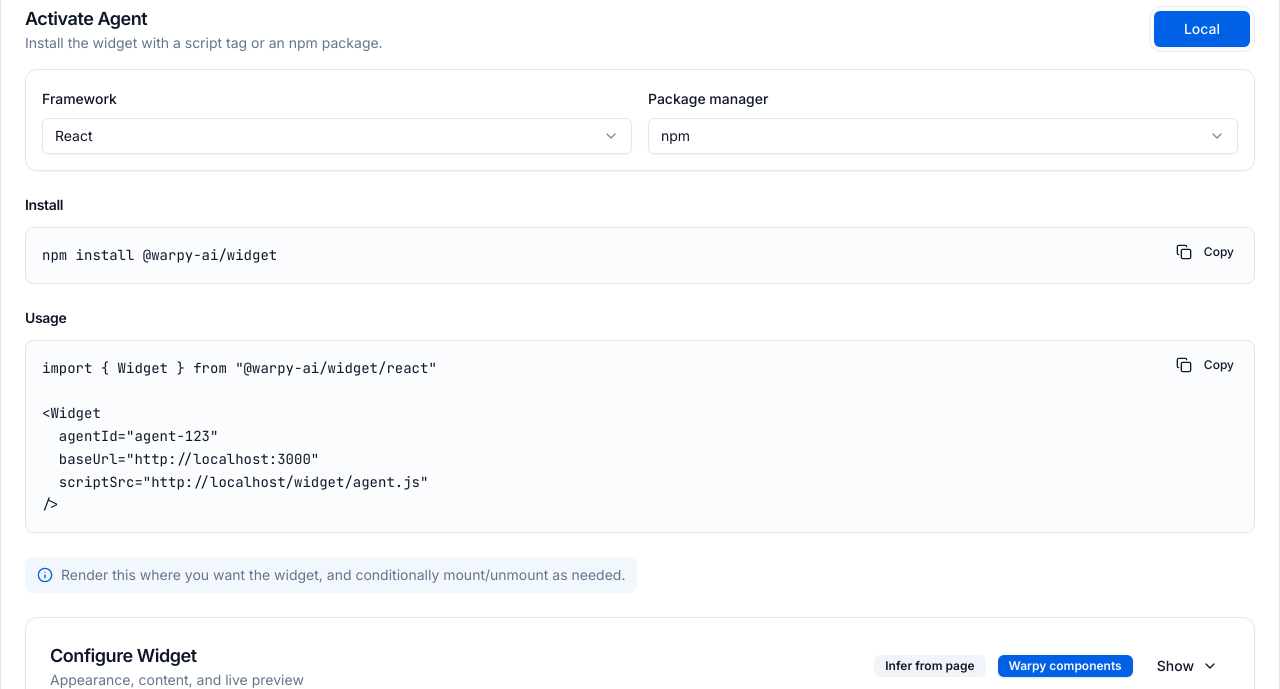
AgentPanel › blocks saving enabled suggestions without a starter suggestion
The width and height of the screenshot is (1280, 689).
Click the button with aria-label "expand configure widget".
click(1187, 666)  # box [1145,650,1230,682]
(page scrolled)
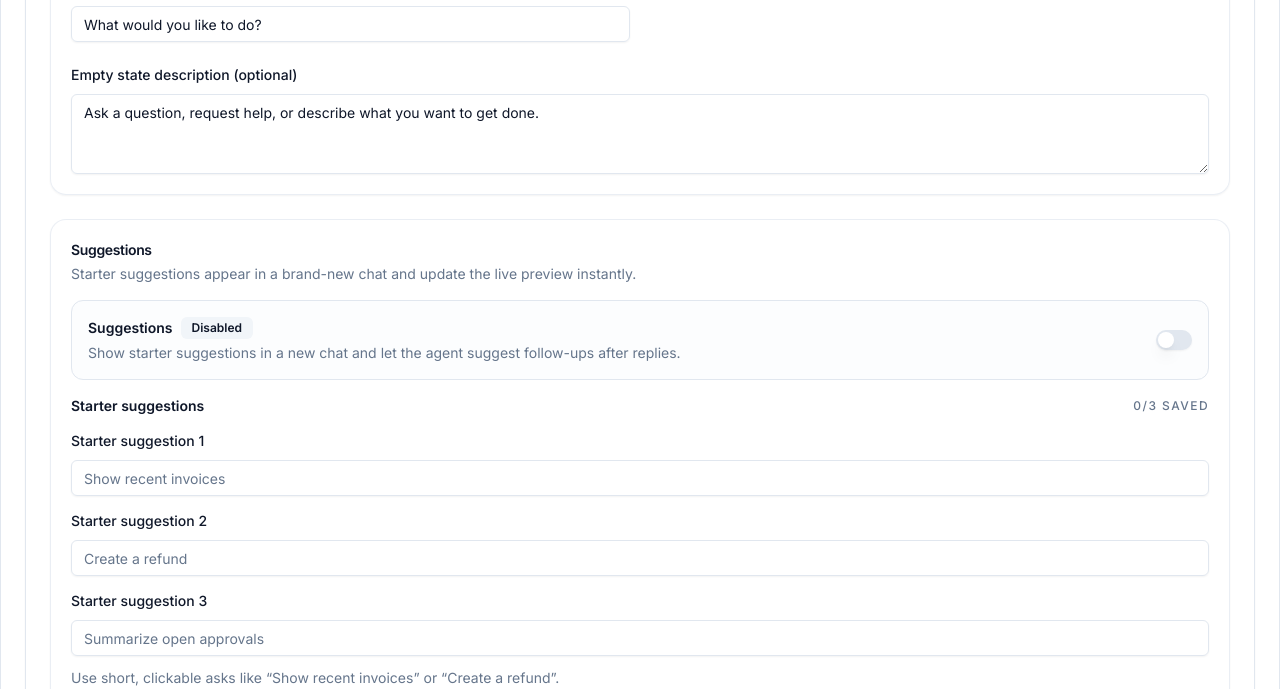
Click the switch named "Toggle widget suggestions".
click(1174, 340)  # box [1156,330,1192,350]
(page scrolled)
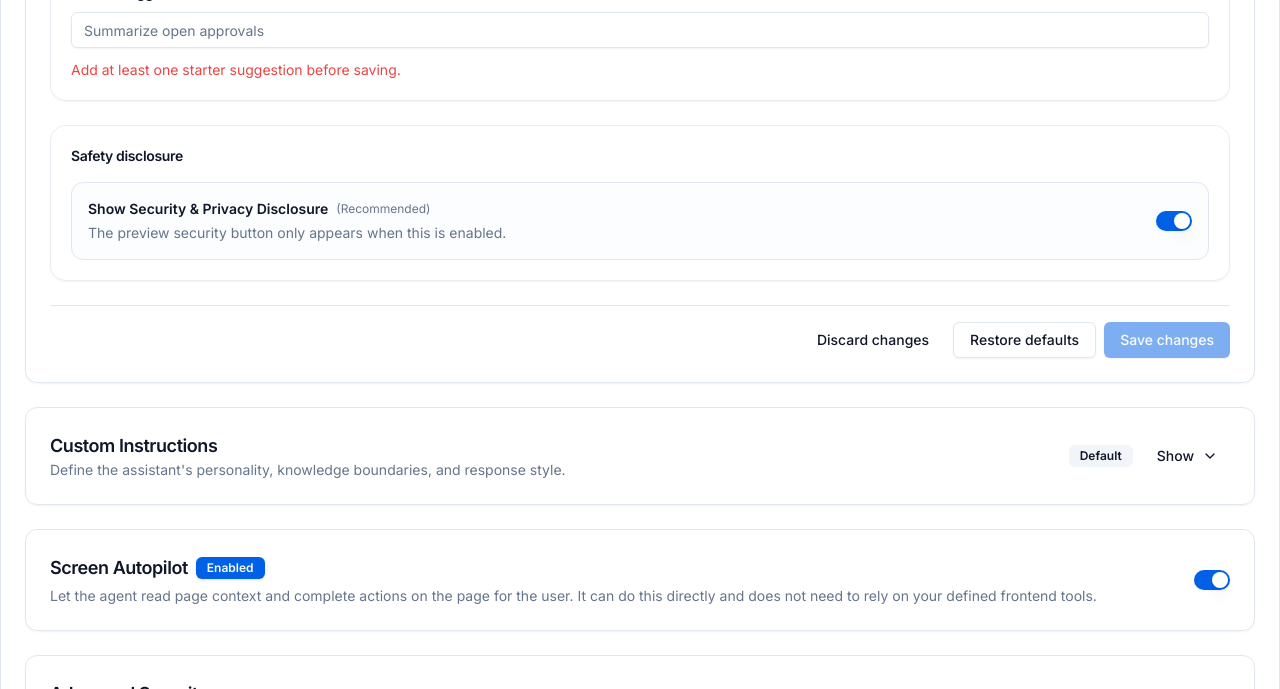
Expected: the button "Save changes" is disabled, [1104,322,1230,358]
Expected: the text "Add at least one starter suggestion before saving." is shown, [71,61,401,78]
